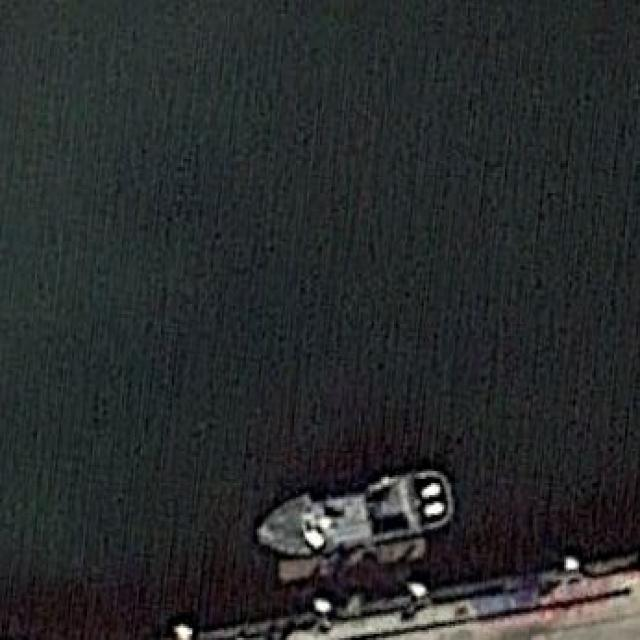ship: (251, 463, 457, 561)
